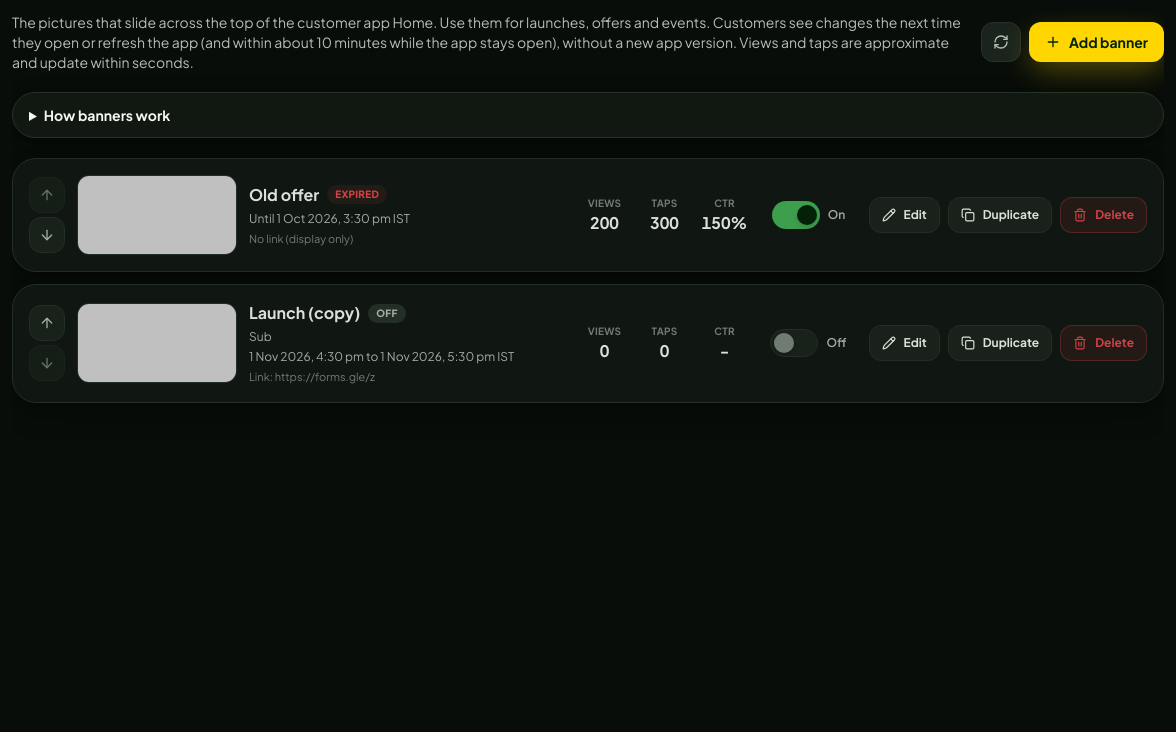
Test: BannersPanel active switch › when the server refuses (expired rule) its message is shown and the switch stays as it was
Step 1. Click the switch named "Launch (copy): switched on" → (794, 343), box [770,329,818,357]
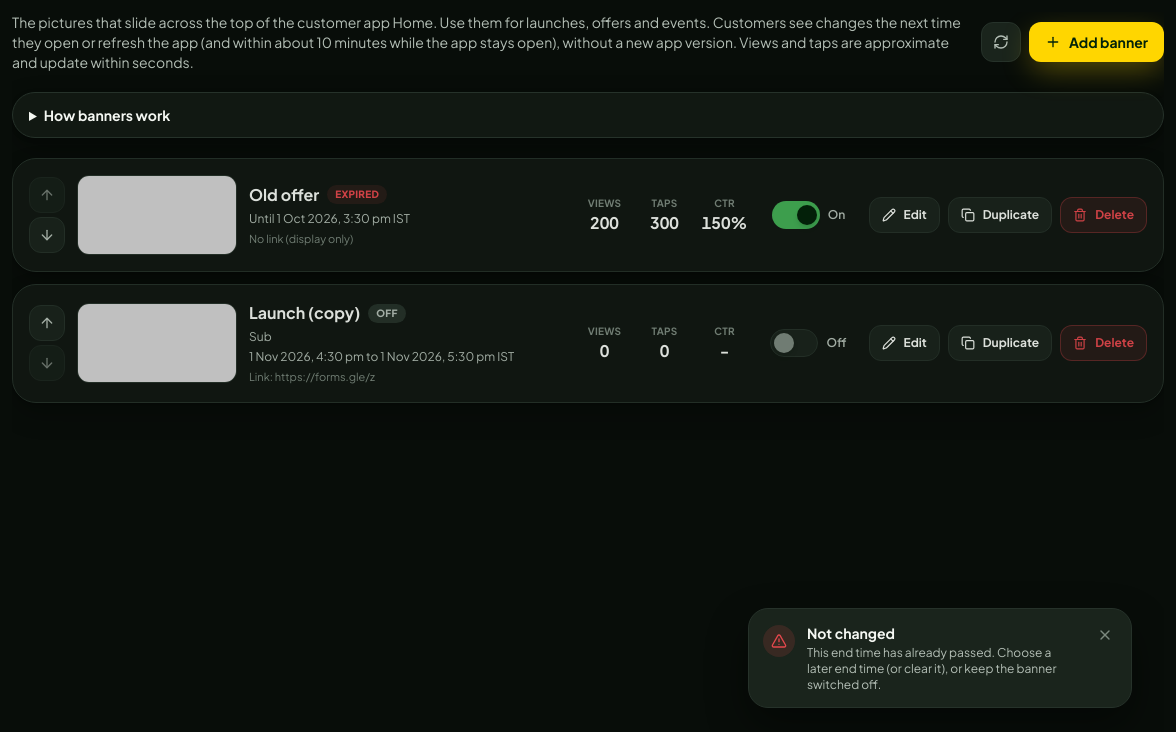
Check: the text "Not changed" is shown, box [807,624,895,642]
Check: the text "This end time has already passed. Choose a later end time (or clear it), or keep the banner switched off." is shown, box [807,645,1056,692]
